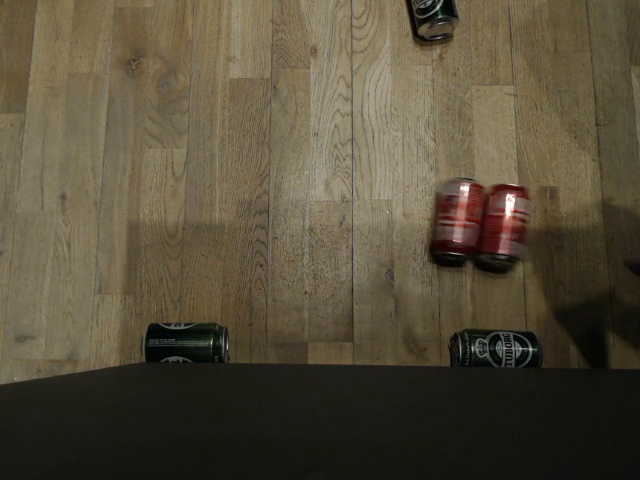beer: (446, 323, 545, 368), (139, 318, 231, 364), (397, 0, 461, 39)
cola: (426, 174, 489, 263), (477, 182, 532, 265)
